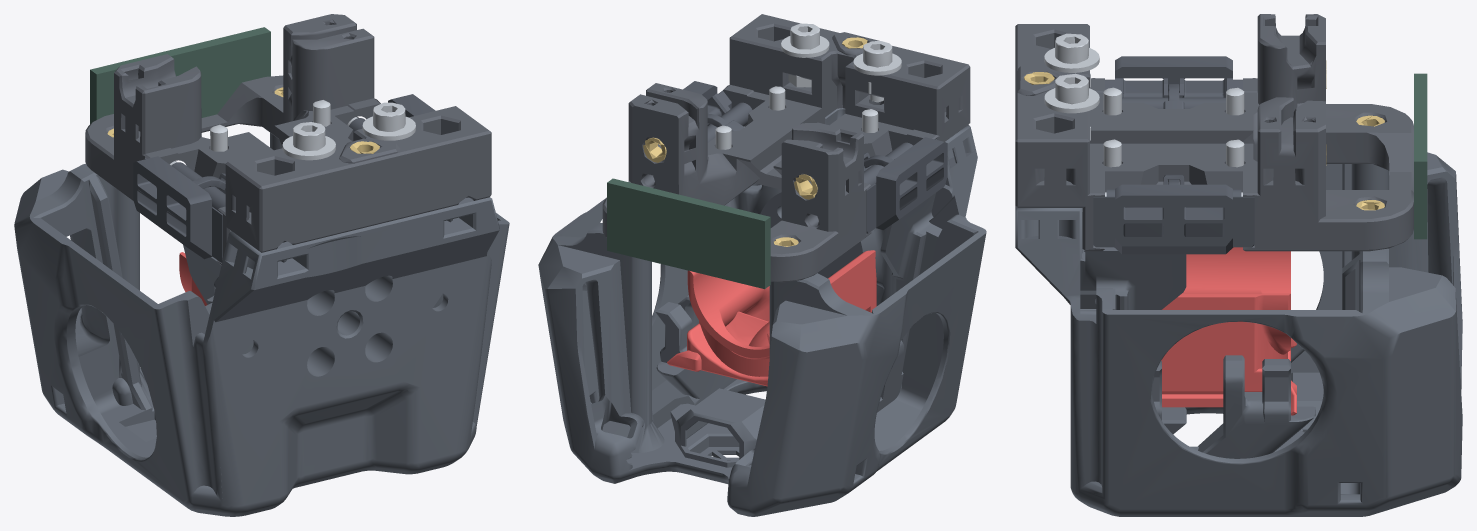
3 renders of one model, left to right at view 1: azimuth 30°, elevation 25°; view 2: azimuth 150°, elevation 25°; view 3: azimuth 270°, elevation 25°, orthographic. The views are drawn at different scales.
Parts seen in each view (by area): view 1: a4t_cowling, a4t_xol_carriage, a4t_beacon_pcb, a4t_belt_clip_17, a4t_fastener_5, a4t_fastener_7, a4t_fastener_20, a4t_fastener_9, a4t_belt_clip_18, a4t_belt_clip_24; view 2: a4t_cowling, a4t_xol_carriage, a4t_beacon_pcb, a4t_he_duct, a4t_belt_clip_17, a4t_belt_clip_24, a4t_fastener_7, a4t_fastener_5, a4t_fastener_20, a4t_belt_clip_25, a4t_fastener_9; view 3: a4t_cowling, a4t_xol_carriage, a4t_he_duct, a4t_belt_clip_24, a4t_belt_clip_17, a4t_beacon_pcb, a4t_fastener_7, a4t_fastener_5, a4t_fastener_9, a4t_fastener_20, a4t_belt_clip_18.
Boxes of the visible parts, x1,y1,x2,y2 form: a4t_cowling: [14, 133, 509, 516]; a4t_xol_carriage: [85, 14, 491, 265]; a4t_beacon_pcb: [90, 27, 270, 124]; a4t_belt_clip_17: [133, 156, 222, 262]; a4t_fastener_5: [373, 102, 405, 131]; a4t_fastener_7: [293, 122, 325, 151]; a4t_fastener_20: [282, 136, 335, 160]; a4t_fastener_9: [362, 116, 415, 140]; a4t_belt_clip_18: [171, 162, 225, 213]; a4t_belt_clip_24: [388, 94, 435, 117]; a4t_cowling: [538, 108, 986, 516]; a4t_xol_carriage: [602, 14, 970, 282]; a4t_beacon_pcb: [607, 178, 770, 289]; a4t_he_duct: [667, 250, 876, 386]; a4t_belt_clip_17: [866, 137, 947, 233]; a4t_belt_clip_24: [683, 81, 731, 125]; a4t_fastener_7: [863, 41, 892, 102]; a4t_fastener_5: [790, 23, 819, 49]; a4t_fastener_20: [853, 53, 901, 75]; a4t_belt_clip_25: [707, 102, 752, 142]; a4t_fastener_9: [781, 36, 829, 57]; a4t_cowling: [1015, 152, 1462, 516]; a4t_xol_carriage: [1015, 14, 1413, 251]; a4t_he_duct: [1161, 247, 1296, 415]; a4t_belt_clip_24: [1093, 184, 1254, 254]; a4t_belt_clip_17: [1105, 56, 1242, 97]; a4t_beacon_pcb: [1414, 73, 1427, 239]; a4t_fastener_7: [1055, 33, 1088, 63]; a4t_fastener_5: [1055, 73, 1088, 104]; a4t_fastener_9: [1044, 88, 1099, 113]; a4t_fastener_20: [1044, 48, 1099, 72]; a4t_belt_clip_18: [1122, 97, 1225, 108].
Bounding box in the file's own units: 0.07 × 0.07 × 0.073.
